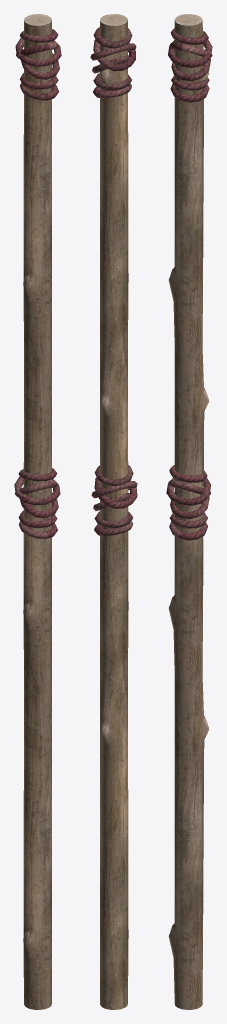
3 views of the same model, side by side, from view 1: azimuth 30°, elevation 25°; view 2: azimuth 210°, elevation 25°; view 3: azimuth 330°, elevation 25° (orthographic).
Parts seen in each view (by area): view 1: SM_Garou_Set_SM_VerticalLog_01_1x12_LOD0; view 2: SM_Garou_Set_SM_VerticalLog_01_1x12_LOD0; view 3: SM_Garou_Set_SM_VerticalLog_01_1x12_LOD0.
Boxes of the visible parts, x1,y1,x2,y2 form: SM_Garou_Set_SM_VerticalLog_01_1x12_LOD0: (14,14,61,1009); SM_Garou_Set_SM_VerticalLog_01_1x12_LOD0: (90,14,137,1009); SM_Garou_Set_SM_VerticalLog_01_1x12_LOD0: (166,14,212,1009).
Size of the model in its own units: 0.5596 by 12 by 0.449.
Materials: 1 (1 with a texture image).
